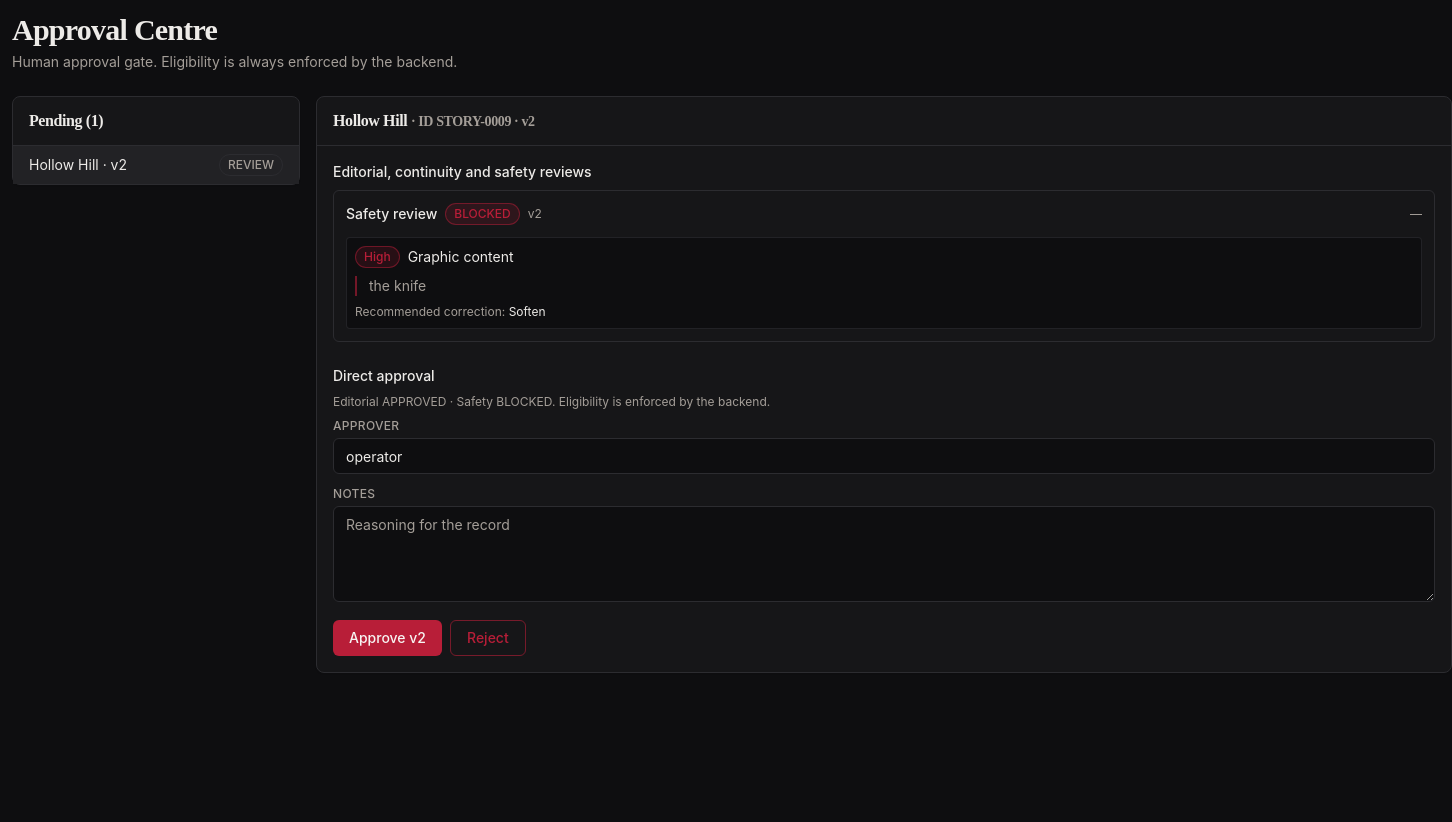
Test case: ApprovalCentrePage › shows pending story, reviews and surfaces backend rejection
Check: the heading "Hollow Hill · ID STORY-0009 · v2" is shown, box x1=333 y1=109 x2=535 y2=133
Check: the text "Graphic content" is shown, box x1=408 y1=247 x2=514 y2=267
What coordinates should you click on to do the following:
click the button "Approve v2"
I would click on:
 (388, 638)
Its box is x1=333 y1=620 x2=442 y2=656.
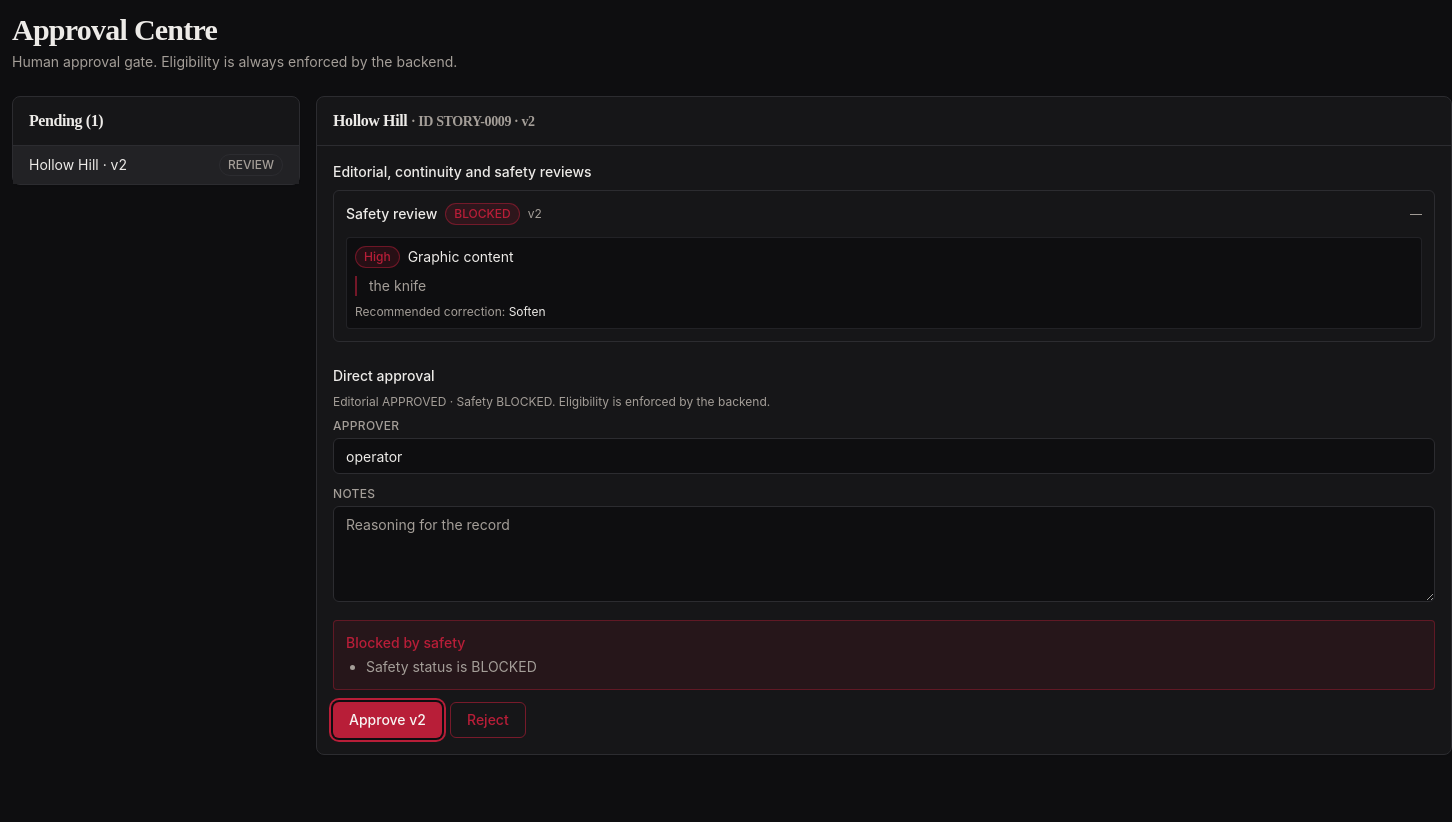
Check: the list item "Safety status is BLOCKED" is shown, box x1=366 y1=658 x2=537 y2=675
